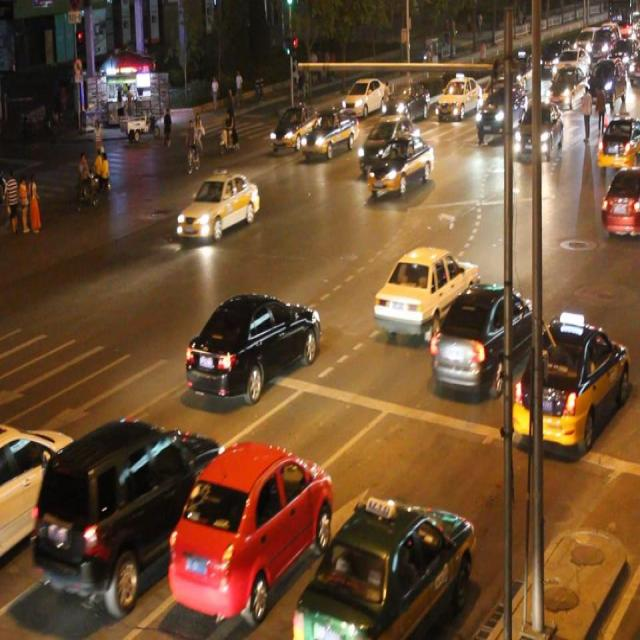car: (34, 420, 220, 589), (168, 440, 332, 616), (294, 499, 475, 640), (185, 293, 321, 396), (513, 322, 626, 445), (430, 282, 537, 392), (1, 422, 75, 551), (374, 247, 477, 336), (175, 170, 260, 240), (367, 134, 434, 192), (357, 116, 418, 170), (299, 106, 358, 158), (598, 166, 640, 236), (514, 102, 562, 159), (474, 84, 523, 138), (595, 115, 640, 169), (269, 103, 320, 148)
